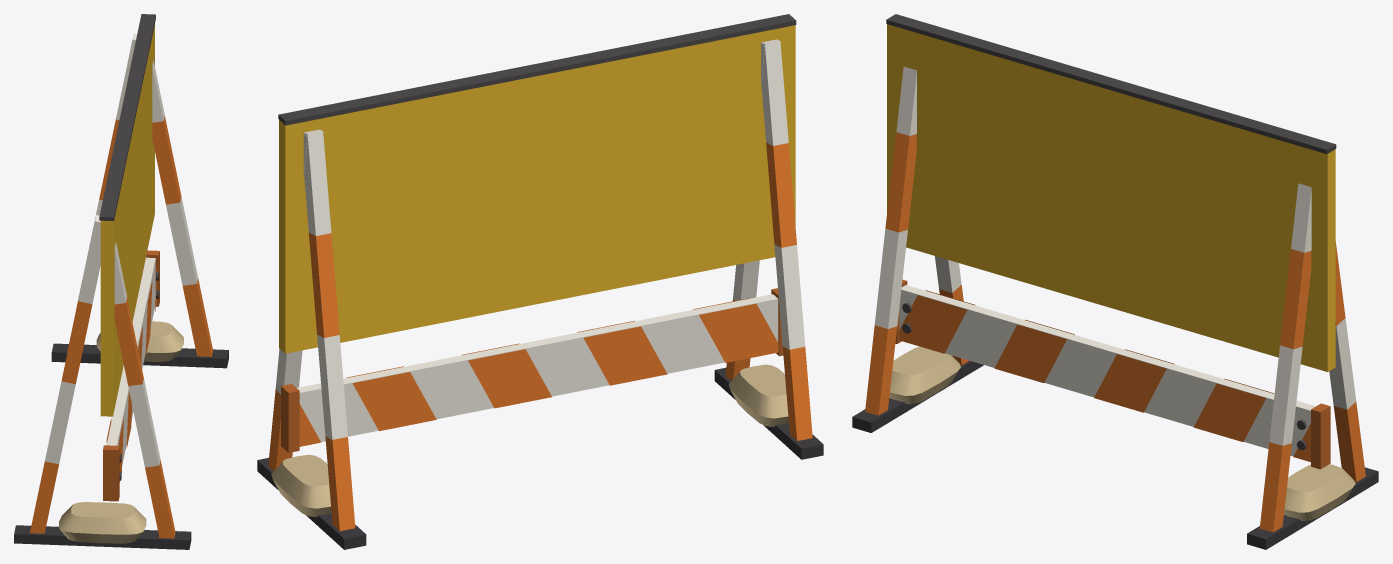
The model's file is barricade.glb.
3 views of the same model, side by side, from view 1: azimuth 30°, elevation 25°; view 2: azimuth 150°, elevation 25°; view 3: azimuth 270°, elevation 25° (orthographic). The views are drawn at different scales.
Visible parts, largest first — view 1: barricade; view 2: barricade; view 3: barricade.
Boxes of the visible parts, <box> form: barricade: <box>14,14,228,549</box>; barricade: <box>257,14,823,549</box>; barricade: <box>852,14,1378,549</box>.
Size of the model in its own units: 1.93 by 1.77 by 2.25.
